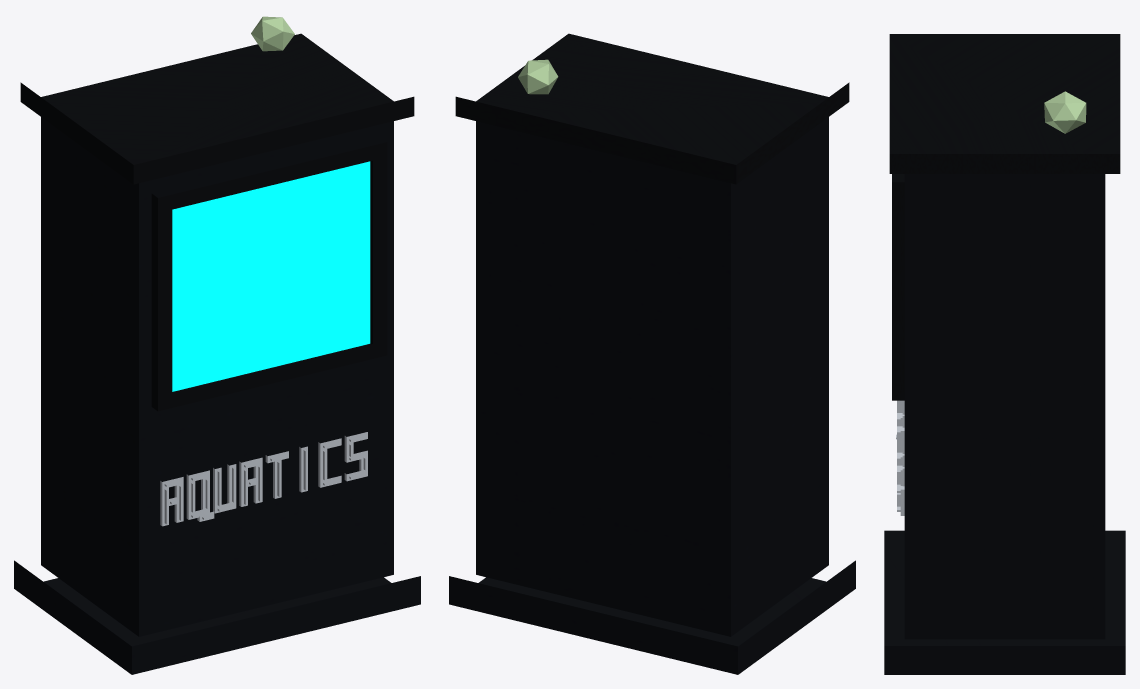
File: v2_kelp_plinth.glb
The picture shows the model from 3 angles, left to right: view 1: azimuth 30°, elevation 25°; view 2: azimuth 150°, elevation 25°; view 3: azimuth 270°, elevation 25°; orthographic projection. The views are drawn at different scales.
Parts seen in each view (by area): view 1: Plinth_Body, Info_Screen, Plinth_Top, Screen_Frame, Wayfinding_Glyphs, Top_Moss; view 2: Plinth_Body, Plinth_Top, Top_Moss; view 3: Plinth_Body, Plinth_Top, Screen_Frame, Top_Moss, Wayfinding_Glyphs.
Boxes of the visible parts, x1=… form: Plinth_Body: x1=14, y1=117, x2=420, y2=674; Info_Screen: x1=172, y1=161, x2=370, y2=391; Plinth_Top: x1=20, y1=33, x2=414, y2=184; Screen_Frame: x1=151, y1=142, x2=387, y2=411; Wayfinding_Glyphs: x1=160, y1=432, x2=367, y2=526; Top_Moss: x1=251, y1=16, x2=294, y2=51; Plinth_Body: x1=449, y1=117, x2=855, y2=674; Plinth_Top: x1=455, y1=33, x2=849, y2=184; Top_Moss: x1=518, y1=59, x2=558, y2=94; Plinth_Body: x1=884, y1=174, x2=1125, y2=674; Plinth_Top: x1=889, y1=34, x2=1120, y2=173; Screen_Frame: x1=892, y1=174, x2=904, y2=400; Top_Moss: x1=1044, y1=91, x2=1086, y2=133; Wayfinding_Glyphs: x1=896, y1=400, x2=904, y2=515.
Size of what is drawn, in the model's own units: 0.68 by 1.21 by 0.48.
5 materials, 3 textured.
